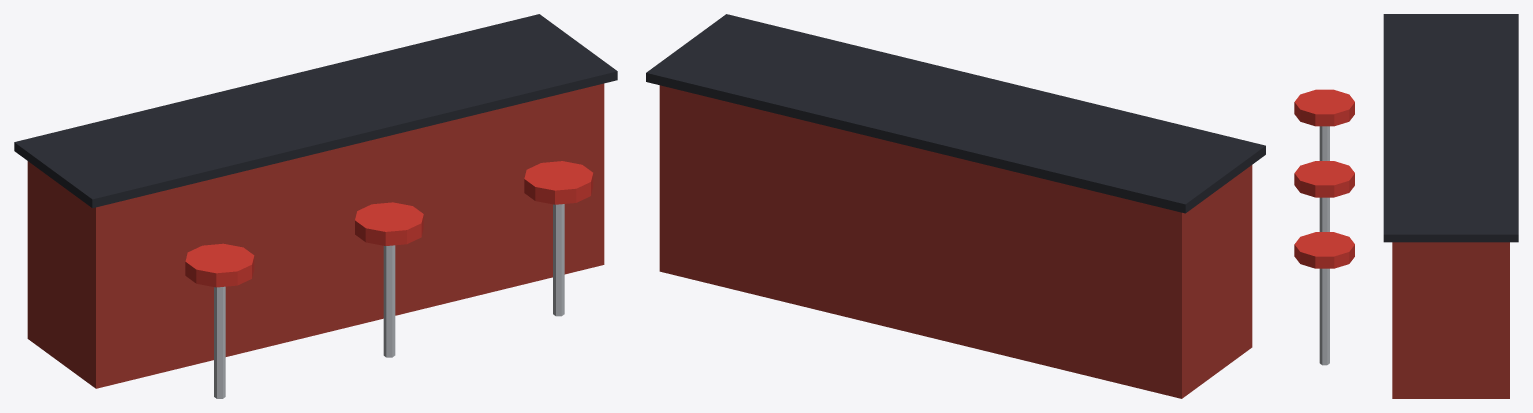
The model's file is bowling_bar.glb.
The picture shows the model from 3 angles, left to right: view 1: azimuth 30°, elevation 25°; view 2: azimuth 150°, elevation 25°; view 3: azimuth 270°, elevation 25°; orthographic projection. The views are drawn at different scales.
Parts seen in each view (by area): view 1: bar_bar_red, top_bar_top, seat_stool_seat (×3), stool_stool_chrome (×3); view 2: bar_bar_red, top_bar_top; view 3: top_bar_top, bar_bar_red, seat_stool_seat (×3), stool_stool_chrome (×3).
Part boxes in pixels (<box>): bar_bar_red: <box>27,83,604,388</box>; top_bar_top: <box>14,14,617,208</box>; seat_stool_seat (×3): <box>185,161,593,287</box>; stool_stool_chrome (×3): <box>214,204,564,398</box>; bar_bar_red: <box>659,85,1252,398</box>; top_bar_top: <box>646,14,1265,213</box>; top_bar_top: <box>1383,14,1518,242</box>; bar_bar_red: <box>1392,242,1509,398</box>; seat_stool_seat (×3): <box>1294,89,1354,268</box>; stool_stool_chrome (×3): <box>1319,126,1329,365</box>.
Size of the model in its own units: 3.1 by 1.1 by 1.33.
